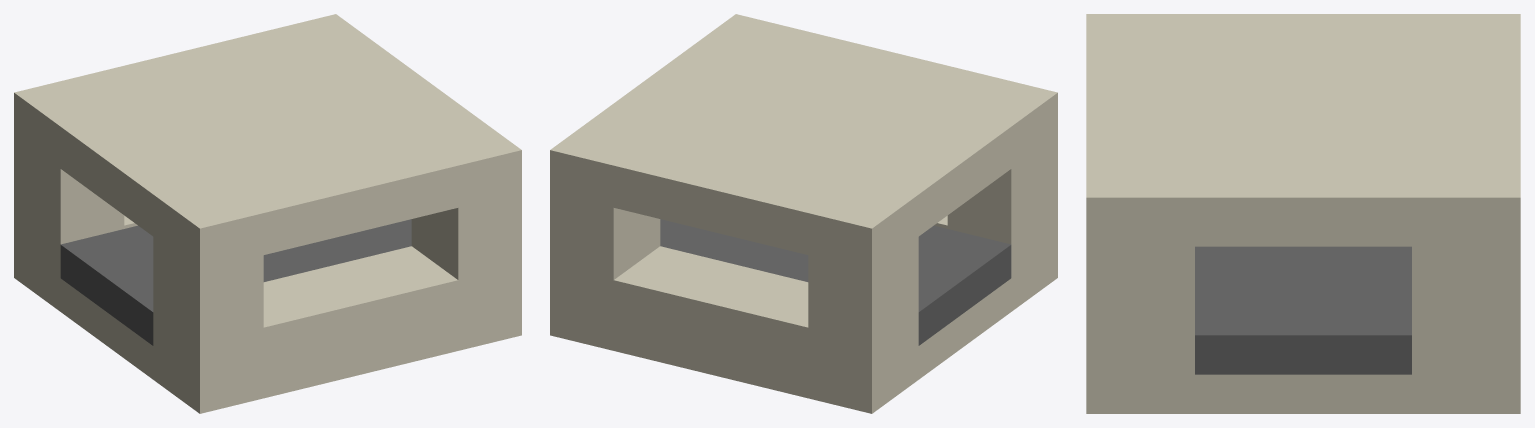
Rendered from tile272.dae.
3 views of the same model, side by side, from view 1: azimuth 30°, elevation 25°; view 2: azimuth 150°, elevation 25°; view 3: azimuth 270°, elevation 25° (orthographic). The views are drawn at different scales.
Visible parts, largest first — view 1: tile272; view 2: tile272; view 3: tile272.
Part boxes in pixels (box(x1,y1,x2,y2)): tile272: box(14, 14, 521, 413); tile272: box(550, 14, 1057, 413); tile272: box(1086, 14, 1520, 413).
Size of the model in its own units: 1 by 0.55 by 1.
